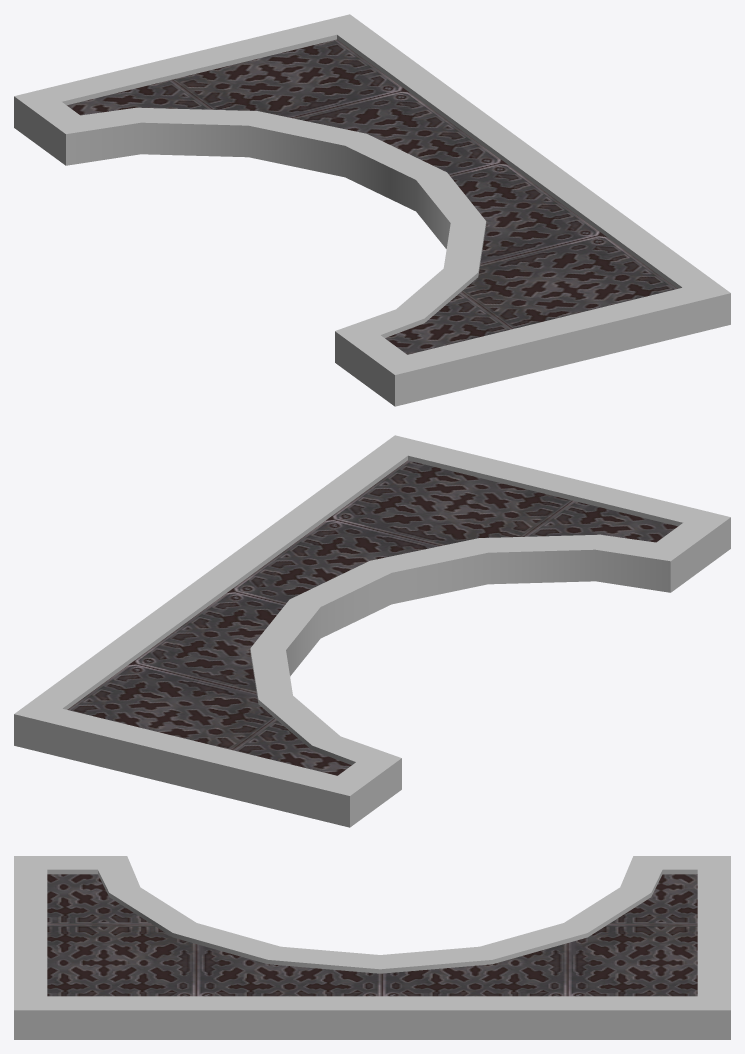
The model's file is cs_chengshi_gongyefb_002.FBX.
3 views of the same model, one above another, from view 1: azimuth 30°, elevation 25°; view 2: azimuth 150°, elevation 25°; view 3: azimuth 270°, elevation 25° (orthographic). The views are drawn at different scales.
Parts seen in each view (by area): view 1: cs_chengshi_gongyefb_002; view 2: cs_chengshi_gongyefb_002; view 3: cs_chengshi_gongyefb_002.
Boxes of the visible parts, box(x1,y1,x2,y2) form: cs_chengshi_gongyefb_002: box(14, 14, 730, 406); cs_chengshi_gongyefb_002: box(14, 435, 730, 827); cs_chengshi_gongyefb_002: box(14, 856, 730, 1039).
Bounding box in the file's own units: 382 × 34.3 × 750.
